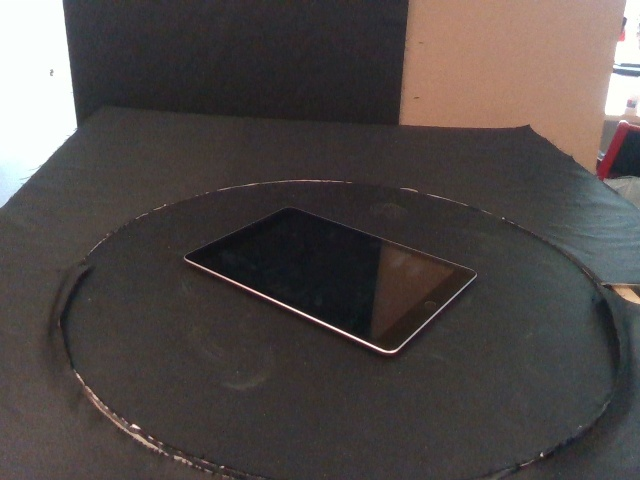laptop: (183, 205, 478, 358)
